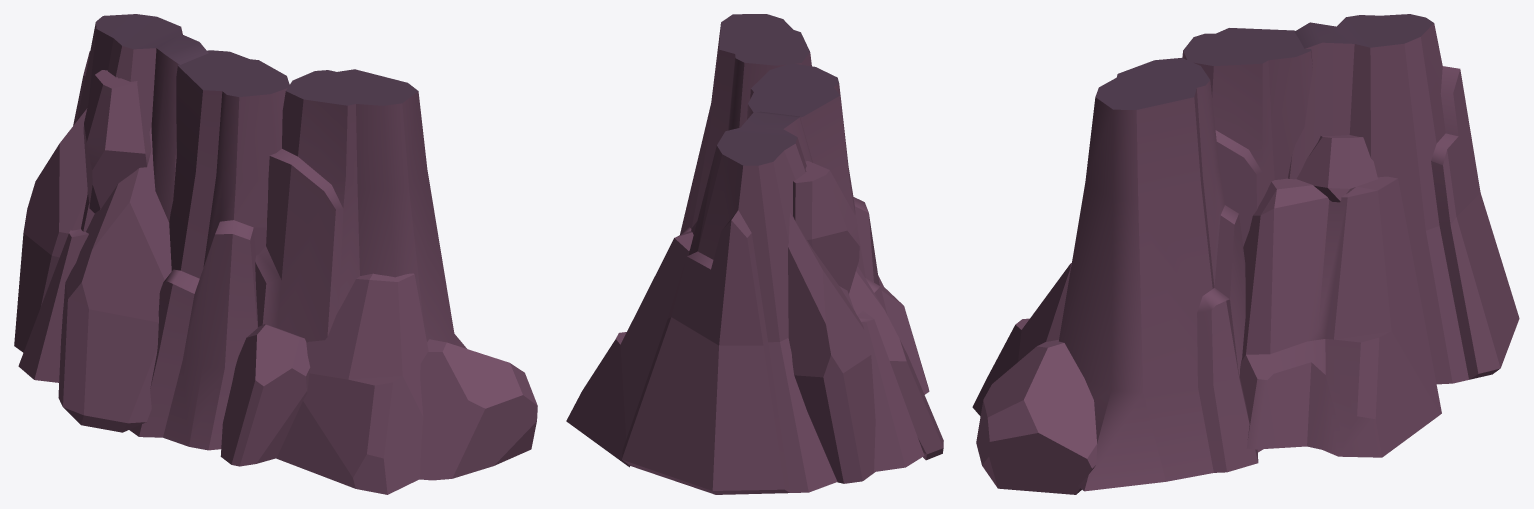
File: mdl_rockCliff01.fbx
3 renders of one model, left to right at view 1: azimuth 30°, elevation 25°; view 2: azimuth 150°, elevation 25°; view 3: azimuth 270°, elevation 25°, orthographic. The views are drawn at different scales.
Parts seen in each view (by area): view 1: mdl_rockCliff02; view 2: mdl_rockCliff02; view 3: mdl_rockCliff02.
Boxes of the visible parts, x1=… form: mdl_rockCliff02: x1=14, y1=14, x2=537, y2=494; mdl_rockCliff02: x1=566, y1=14, x2=943, y2=494; mdl_rockCliff02: x1=972, y1=14, x2=1519, y2=494.
Bounding box in the file's own units: 400 × 352 × 490.
Materials: 1 (1 with a texture image).
